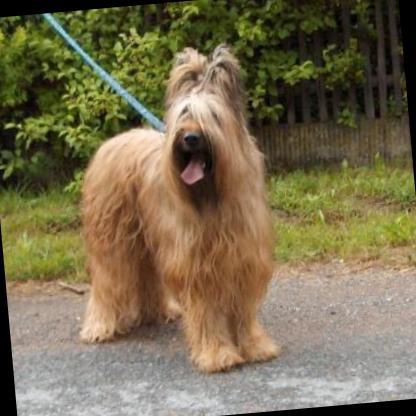briard: (52, 37, 286, 385)
